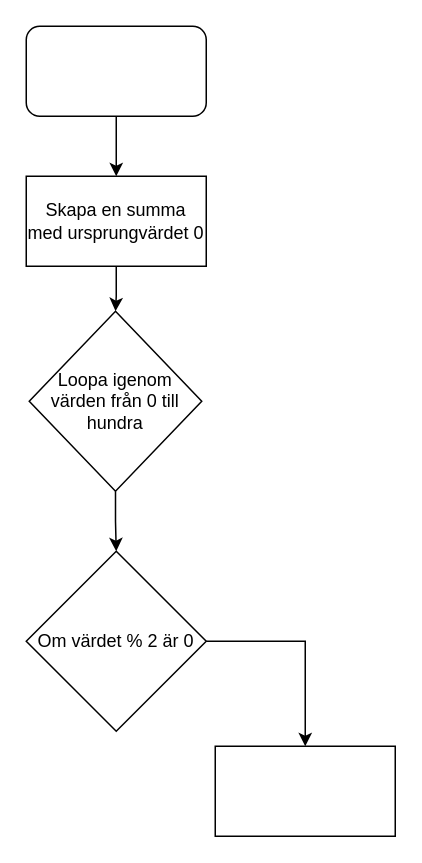
Image size: 422x863. Some labels were removed from this diagram. The centre of each missing label's shape, as x and y in pixels:
Addera värdet till summan: the point at 304,790
Start: the point at 115,70
